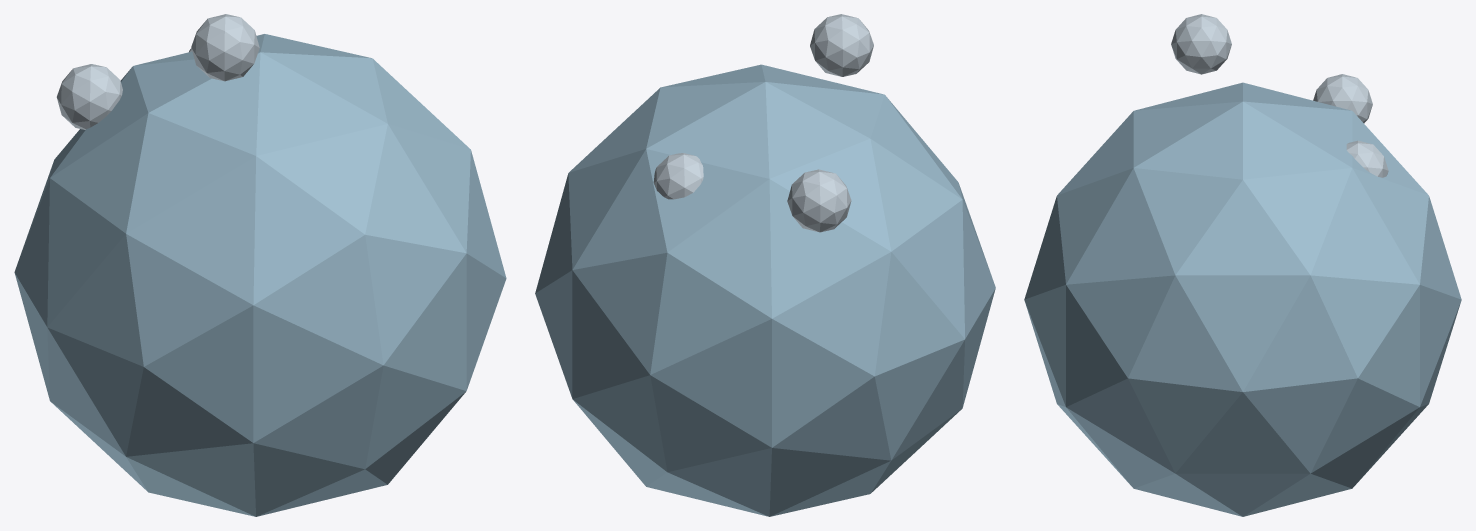
The model's file is dream_horror.glb.
3 views of the same model, side by side, from view 1: azimuth 30°, elevation 25°; view 2: azimuth 150°, elevation 25°; view 3: azimuth 270°, elevation 25° (orthographic). The views are drawn at different scales.
Parts seen in each view (by area): view 1: geometry_0; view 2: geometry_0; view 3: geometry_0.
Boxes of the visible parts, left/top/right/bottom form: geometry_0: left=14, top=14, right=506, bottom=516; geometry_0: left=535, top=14, right=995, bottom=516; geometry_0: left=1024, top=14, right=1461, bottom=516.
Size of the model in its own units: 0.86 by 0.9892 by 0.86.
